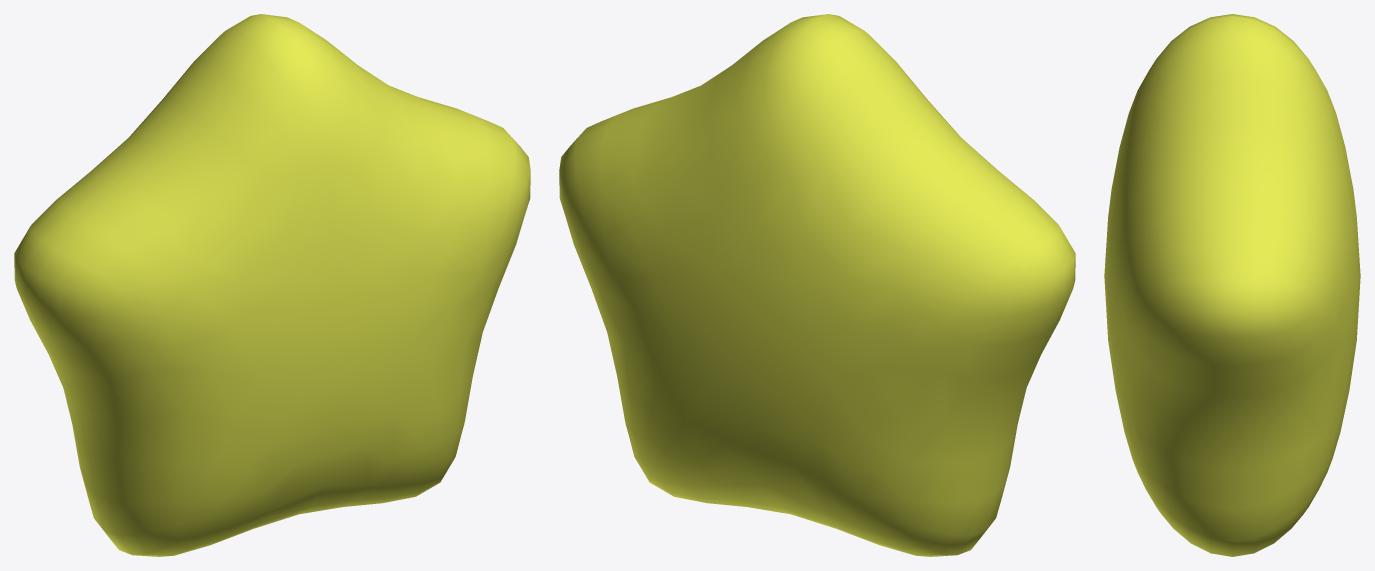
The model's file is Star.glb.
3 renders of one model, left to right at view 1: azimuth 30°, elevation 25°; view 2: azimuth 150°, elevation 25°; view 3: azimuth 270°, elevation 25°, orthographic. The views are drawn at different scales.
Visible parts, largest first — view 1: Star; view 2: Star; view 3: Star.
Boxes of the visible parts, x1=… form: Star: x1=14, y1=14, x2=530, y2=556; Star: x1=559, y1=14, x2=1075, y2=556; Star: x1=1104, y1=14, x2=1360, y2=556.
Bounding box in the file's own units: 1.28 × 1.24 × 0.605.
